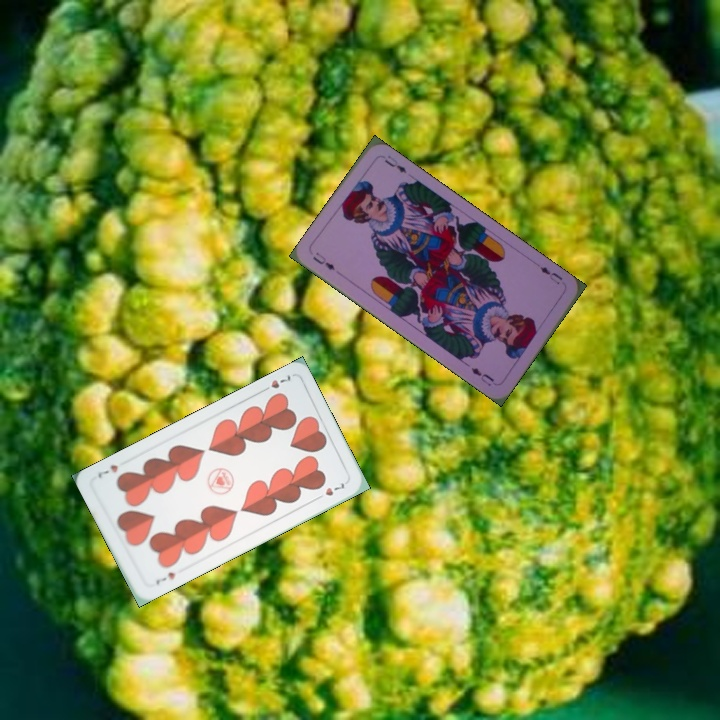EU: (308, 248, 338, 273), (536, 262, 565, 287)
H7: (257, 371, 293, 395), (152, 568, 178, 587)
